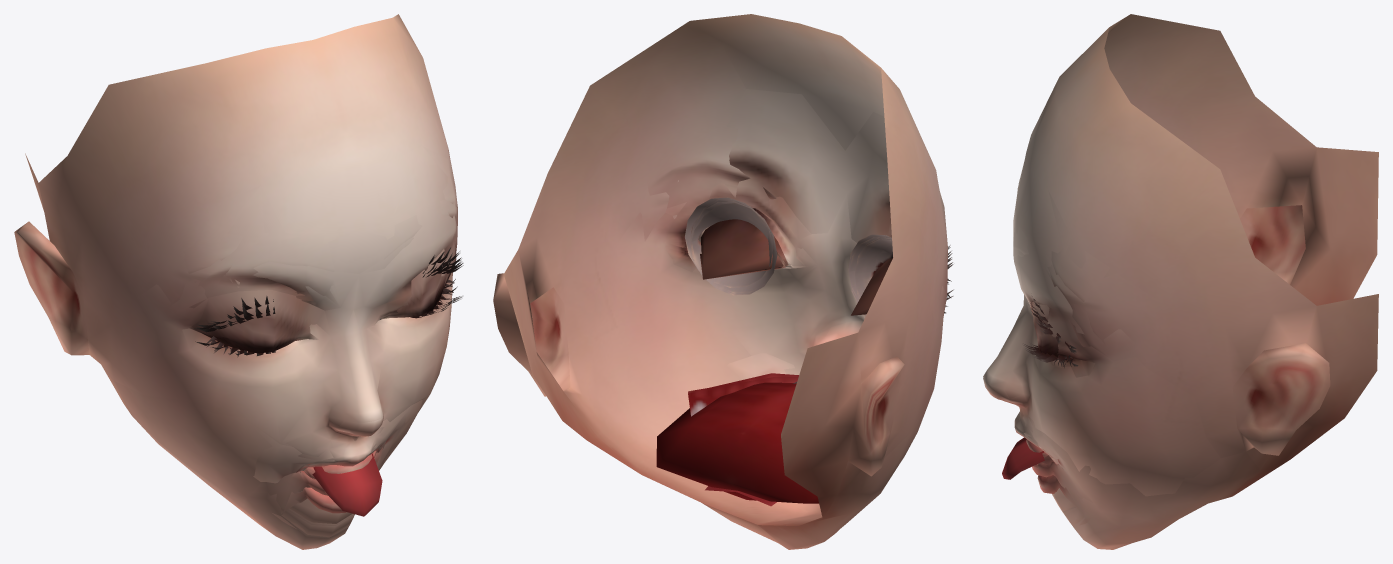
3 views of the same model, side by side, from view 1: azimuth 30°, elevation 25°; view 2: azimuth 150°, elevation 25°; view 3: azimuth 270°, elevation 25° (orthographic). The views are drawn at different scales.
Parts seen in each view (by area): view 1: face001_wbq, face001_ys, face001_tst, face001_jy, face001_tp, face001_zyj, face001_wx, face001_sq, face001_zz; view 2: face001_wbq, face001_sq, face001_tp, face001_ys, face001_jy, face001_tst, face001_zyj; view 3: face001_wbq, face001_ys, face001_jy, face001_tp, face001_tst, face001_sq, face001_wx, face001_zyj.
Part boxes in pixels (x1=…): face001_wbq: x1=14, y1=14, x2=462, y2=479; face001_ys: x1=288, y1=58, x2=461, y2=530; face001_tst: x1=130, y1=119, x2=457, y2=529; face001_jy: x1=101, y1=247, x2=460, y2=549; face001_tp: x1=111, y1=146, x2=463, y2=473; face001_zyj: x1=189, y1=212, x2=462, y2=478; face001_wx: x1=169, y1=185, x2=463, y2=537; face001_sq: x1=246, y1=285, x2=373, y2=523; face001_zz: x1=245, y1=409, x2=405, y2=531; face001_wbq: x1=493, y1=14, x2=952, y2=518; face001_sq: x1=582, y1=46, x2=891, y2=525; face001_tp: x1=582, y1=89, x2=951, y2=384; face001_ys: x1=613, y1=180, x2=889, y2=503; face001_jy: x1=665, y1=129, x2=951, y2=549; face001_tst: x1=665, y1=90, x2=951, y2=416; face001_zyj: x1=665, y1=242, x2=953, y2=315; face001_wbq: x1=983, y1=14, x2=1378, y2=495; face001_ys: x1=1010, y1=140, x2=1220, y2=523; face001_jy: x1=1025, y1=296, x2=1260, y2=549; face001_tp: x1=983, y1=81, x2=1198, y2=467; face001_tst: x1=1002, y1=251, x2=1154, y2=522; face001_sq: x1=1026, y1=47, x2=1165, y2=510; face001_wx: x1=1013, y1=187, x2=1105, y2=526; face001_zyj: x1=1013, y1=216, x2=1077, y2=457.
Bounding box in the file's own units: 0.1796 × 0.1619 × 0.2249.
